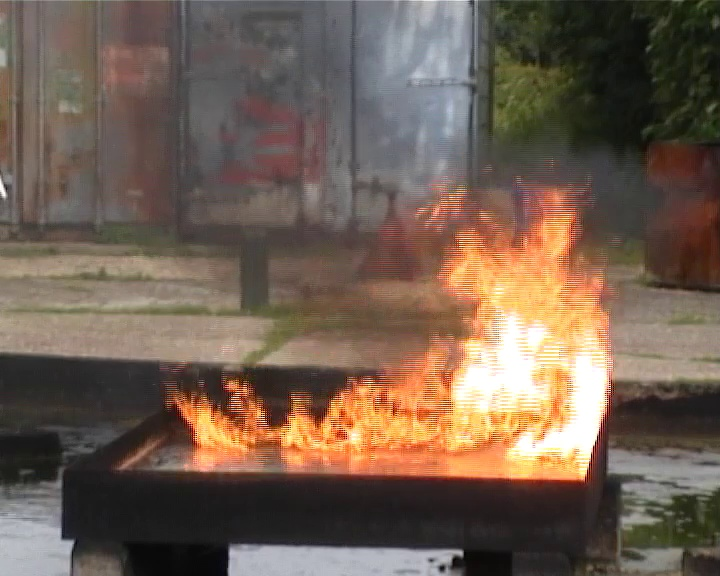fire: (160, 183, 617, 480)
